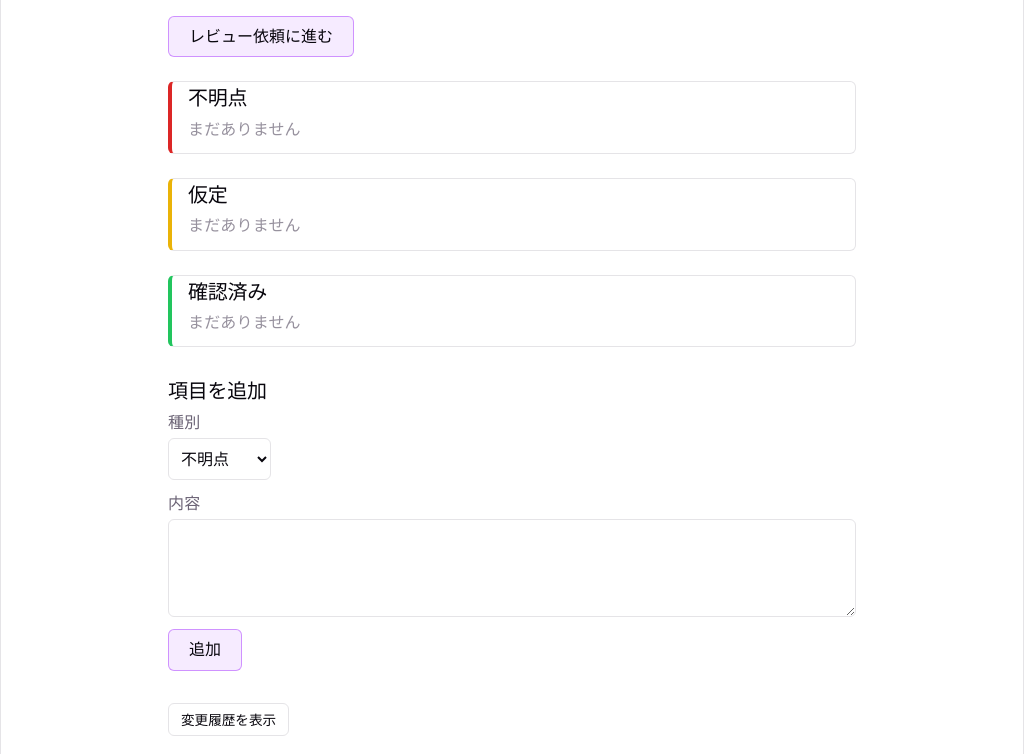
Scenario: 項目の追加 › 検証エラーのときは、APIが返したエラーを表示する
(page scrolled)
Expected: the element "不明点" is shown, [168, 81, 856, 154]
Click the button "追加".
click(205, 650)  # box [168, 629, 242, 671]
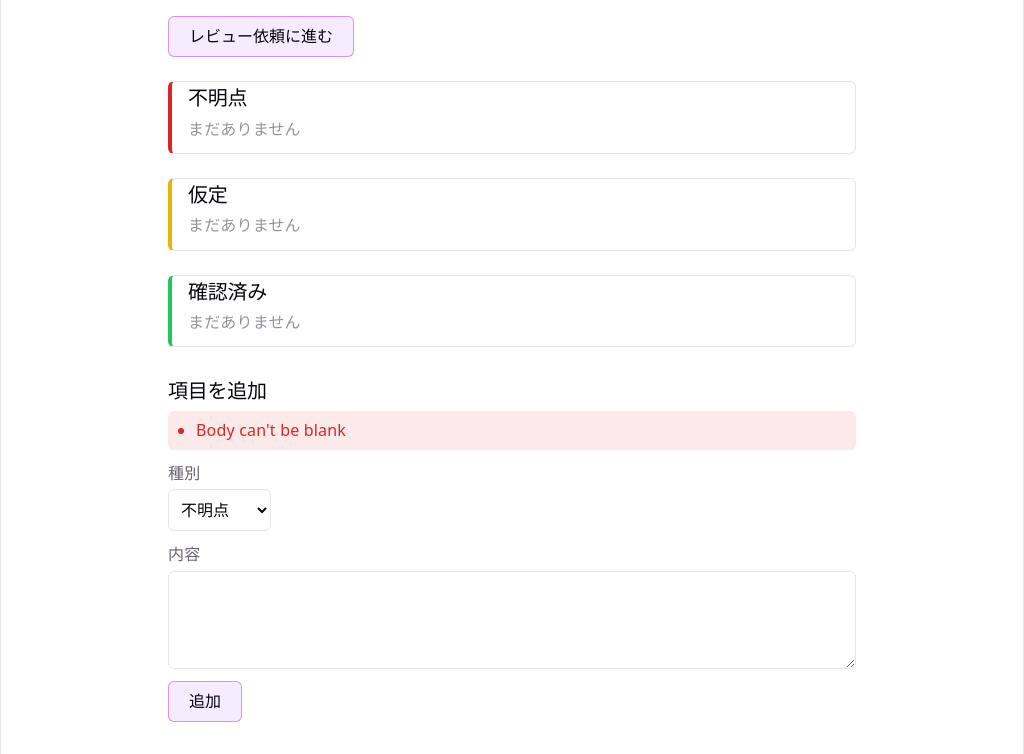
Expected: the message reads "Body can't be blank", [196, 419, 346, 441]
